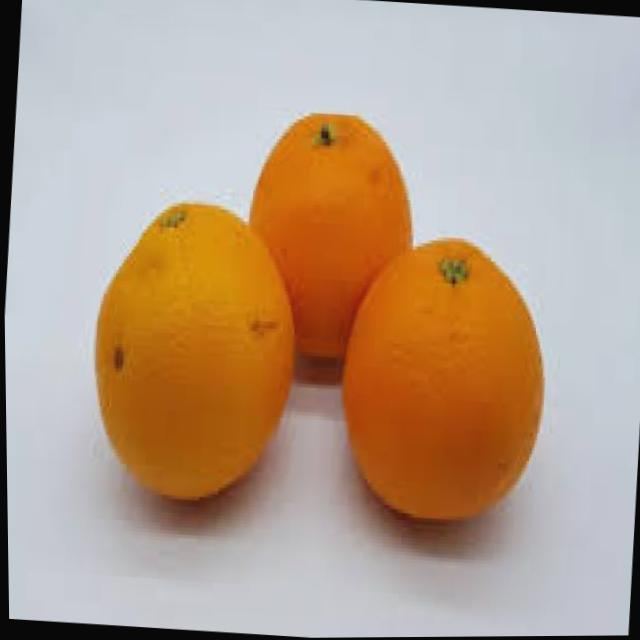orange: (80, 191, 306, 507), (328, 227, 554, 529), (236, 106, 419, 368)
